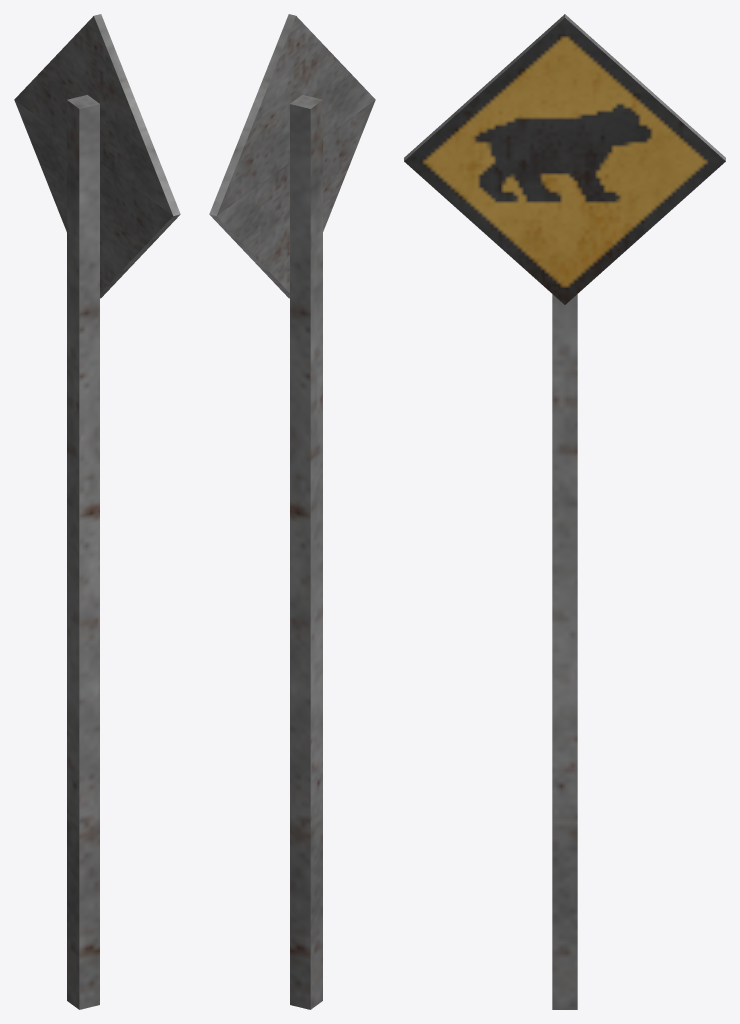
The model's file is Sign_19.fbx.
3 renders of one model, left to right at view 1: azimuth 30°, elevation 25°; view 2: azimuth 150°, elevation 25°; view 3: azimuth 270°, elevation 25°, orthographic.
Visible parts, largest first — view 1: Sign_19; view 2: Sign_19; view 3: Sign_19.
Part boxes in pixels (left/top/right/bottom): Sign_19: left=14, top=14, right=180, bottom=1009; Sign_19: left=209, top=14, right=375, bottom=1009; Sign_19: left=404, top=14, right=725, bottom=1009.
Size of the model in its own units: 5.76 by 193 by 56.65.
